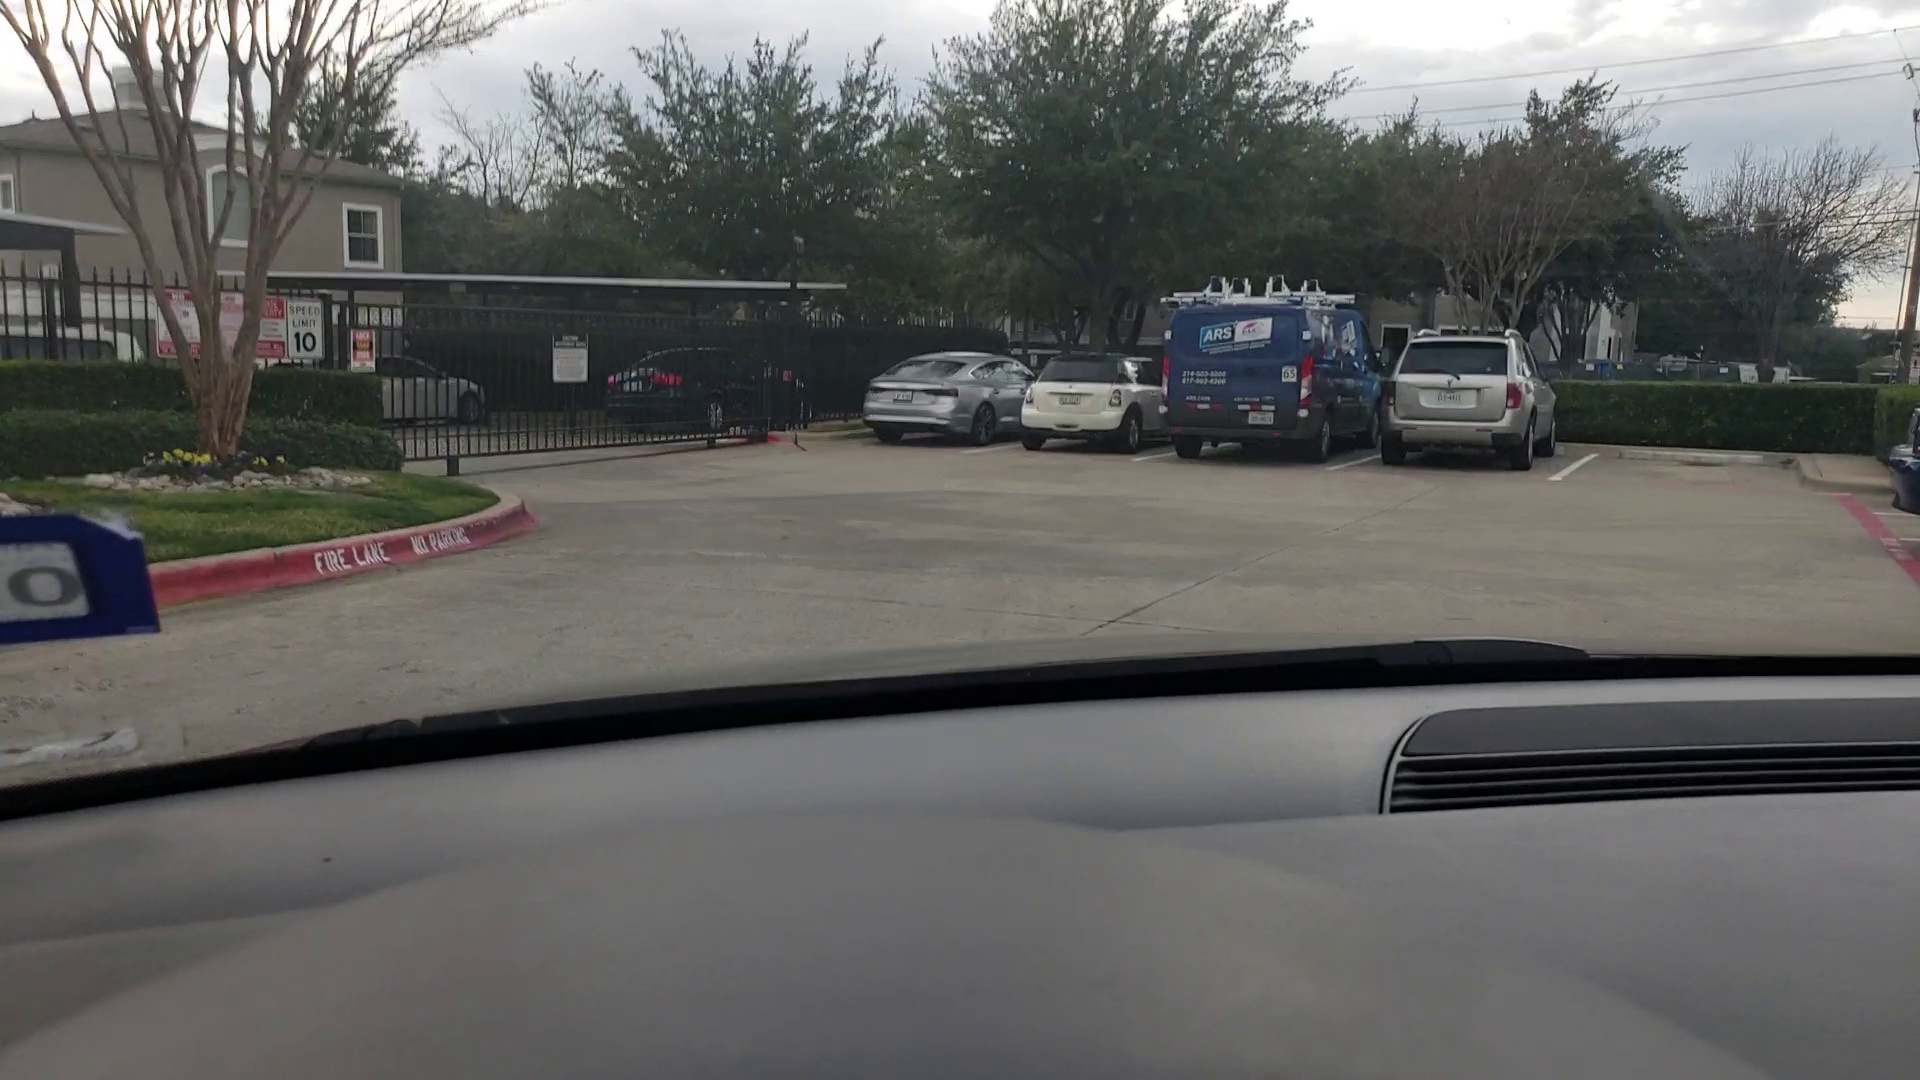car: (1389, 323, 1563, 462), (597, 344, 815, 435), (862, 344, 1025, 450), (1015, 348, 1174, 452), (342, 343, 497, 435)
truck: (1160, 294, 1383, 465)
